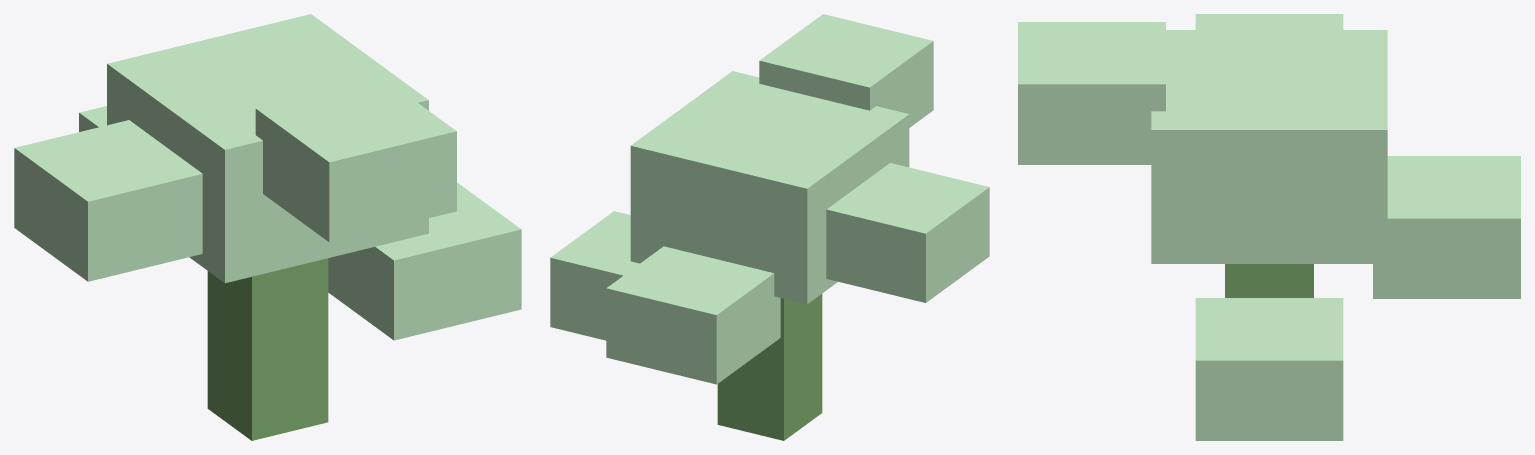
Rendered from Prop_DS_Herb_DefragMoss_S1_V3.glb.
3 views of the same model, side by side, from view 1: azimuth 30°, elevation 25°; view 2: azimuth 150°, elevation 25°; view 3: azimuth 270°, elevation 25° (orthographic). The views are drawn at different scales.
Parts seen in each view (by area): view 1: Prop_DS_Herb_DefragMoss_S1_V3; view 2: Prop_DS_Herb_DefragMoss_S1_V3; view 3: Prop_DS_Herb_DefragMoss_S1_V3.
Part boxes in pixels (box(x1,y1,x2,y2)): Prop_DS_Herb_DefragMoss_S1_V3: box(14, 14, 521, 440); Prop_DS_Herb_DefragMoss_S1_V3: box(550, 14, 989, 440); Prop_DS_Herb_DefragMoss_S1_V3: box(1018, 14, 1520, 440).
Bounding box in the file's own units: 0.34 × 0.27 × 0.34.
